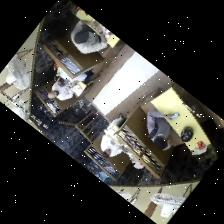person: (71, 20, 107, 53), (147, 110, 172, 150), (101, 113, 123, 157), (59, 68, 94, 86), (49, 81, 73, 100)
